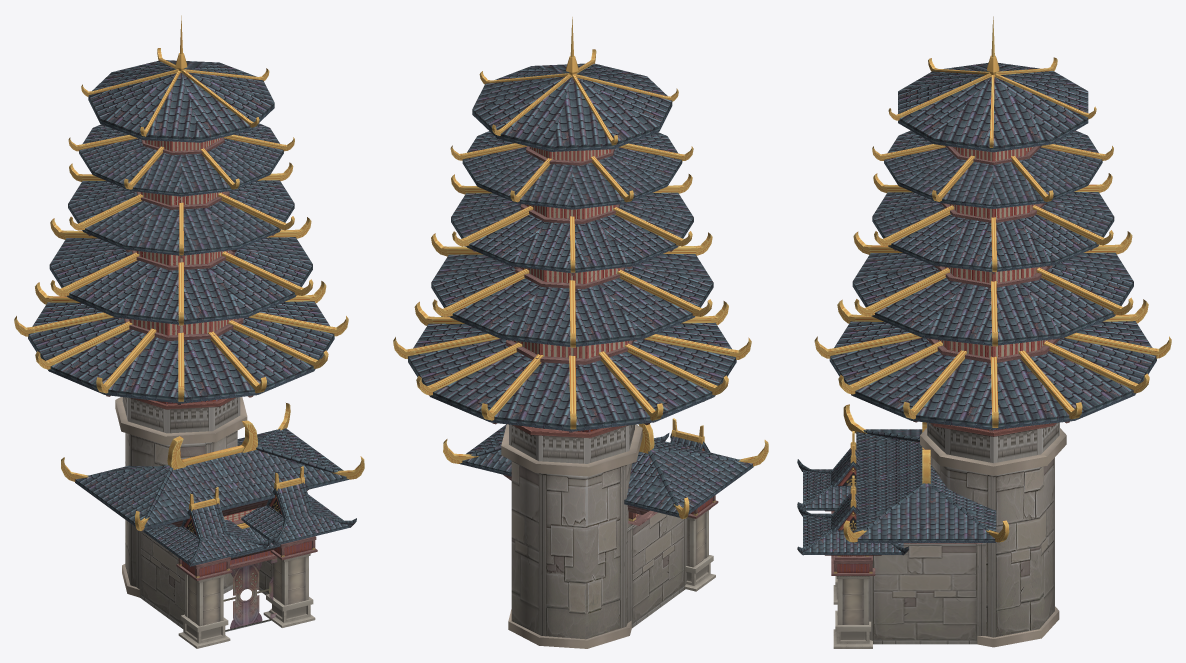
Rendered from mod_zlc_jianzhu027_xy.FBX.
3 renders of one model, left to right at view 1: azimuth 30°, elevation 25°; view 2: azimuth 150°, elevation 25°; view 3: azimuth 270°, elevation 25°, orthographic. The views are drawn at different scales.
Parts seen in each view (by area): view 1: mod_zlc_jianzhu027_xy; view 2: mod_zlc_jianzhu027_xy; view 3: mod_zlc_jianzhu027_xy.
Part boxes in pixels (x1=…): mod_zlc_jianzhu027_xy: x1=14, y1=15, x2=364, y2=648; mod_zlc_jianzhu027_xy: x1=393, y1=17, x2=768, y2=648; mod_zlc_jianzhu027_xy: x1=797, y1=16, x2=1171, y2=648.
Size of the model in its own units: 3083 by 5768 by 3234.
